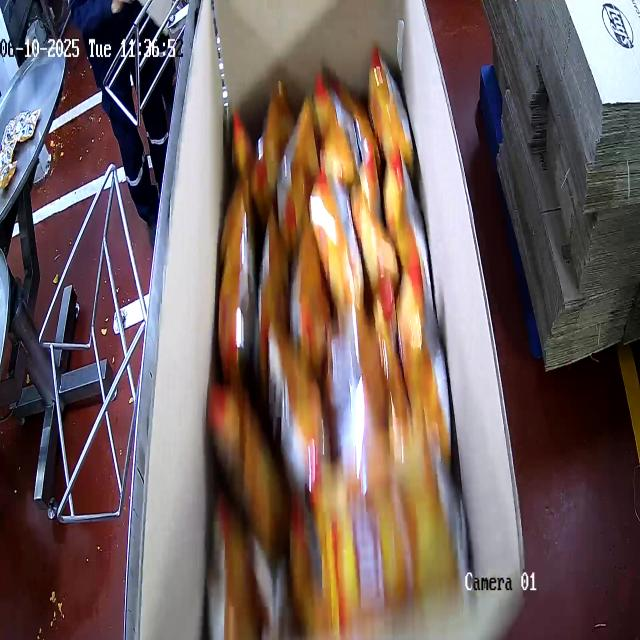FRENCH_CHEESE: (214, 82, 463, 582)
